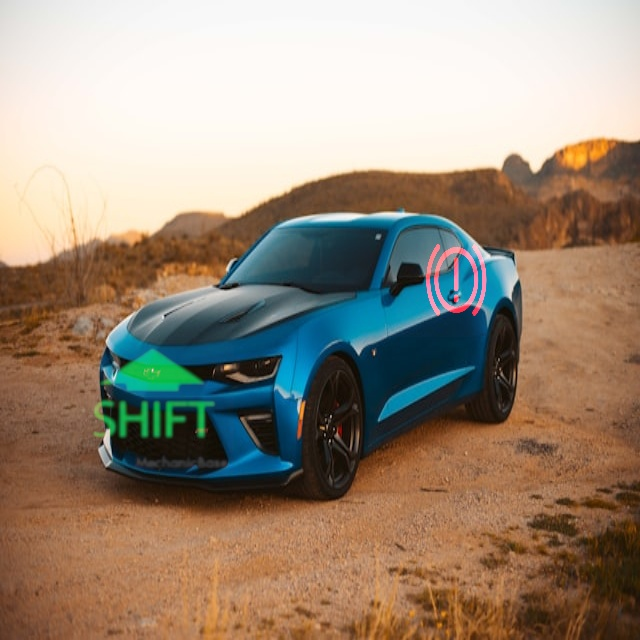symbol: (72, 314, 234, 476), (396, 217, 516, 337)
